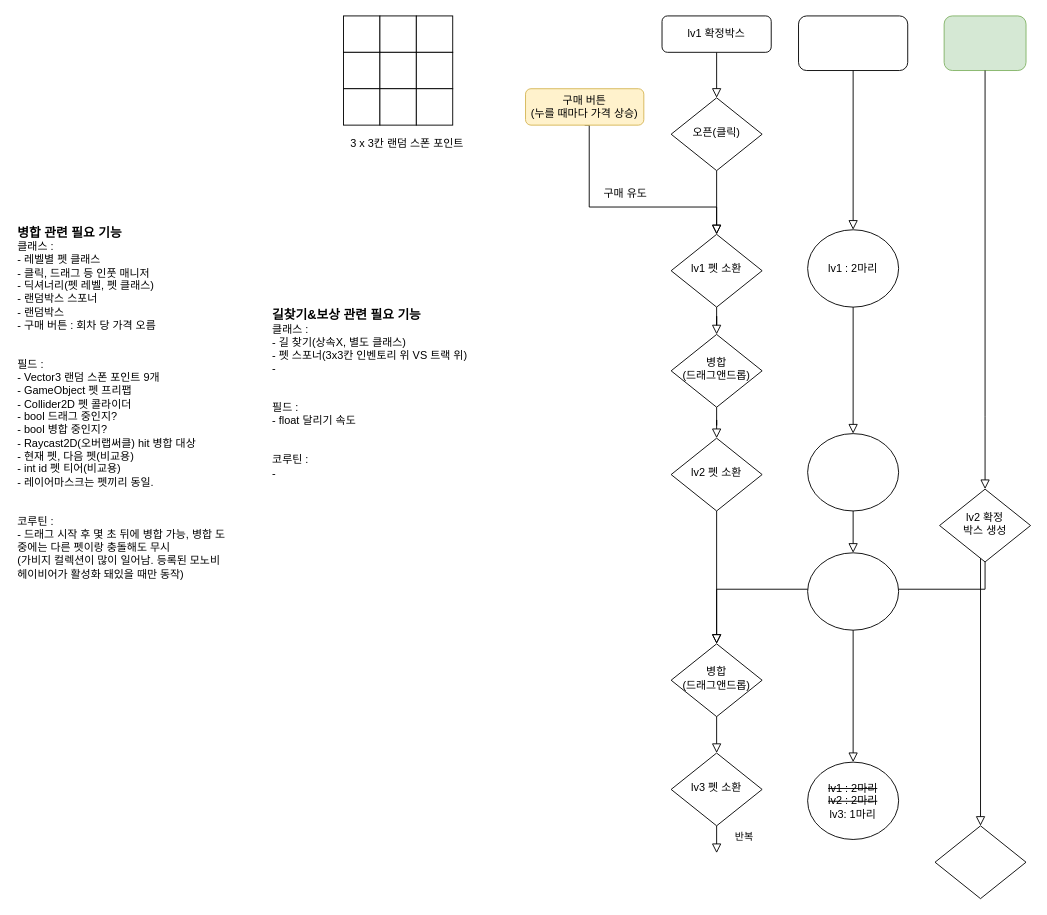
Some shapes in this 1047 by 915 pixel diagram are drawn without their labels. The shapes that lost their labels are listed below. From the top down, each one's centre as x and y in pixels, then its label:
At [853,43]: "가상의 펫 저장소 (풀. 병합시 사라진 펫들은 여기로 리턴)".
At [984,43]: "타이머 (N초 마다 랜덤박스 생성)".
At [853,472]: "lv1 : 2마리 lv2 : 1마리".
At [853,591]: "lv1 : 2마리 lv2 : 2마리".
At [980,862]: "랜덤 박스 생성".
